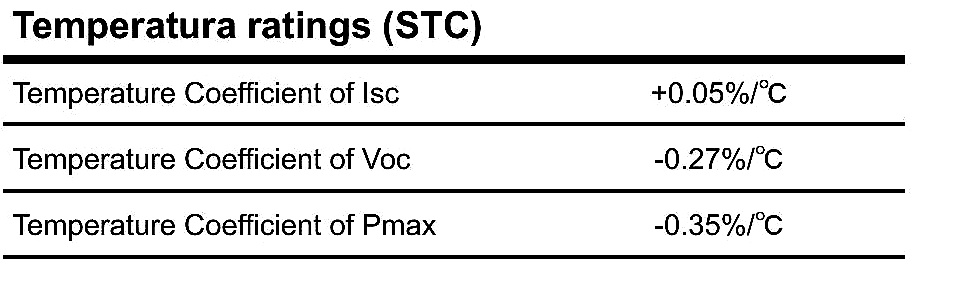table: (2, 4, 919, 264)
table column: (4, 7, 564, 254), (566, 6, 908, 249)
table name: (8, 8, 905, 53)
table row: (2, 196, 907, 254), (3, 129, 906, 184), (5, 67, 906, 120), (3, 7, 904, 53)
table row header: (6, 6, 565, 251)
table spanning cell: (8, 8, 904, 54)
